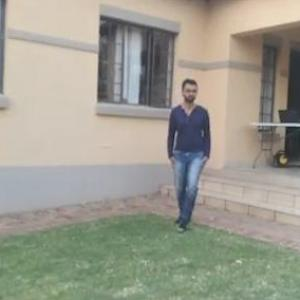follow: (165, 71, 212, 236)
